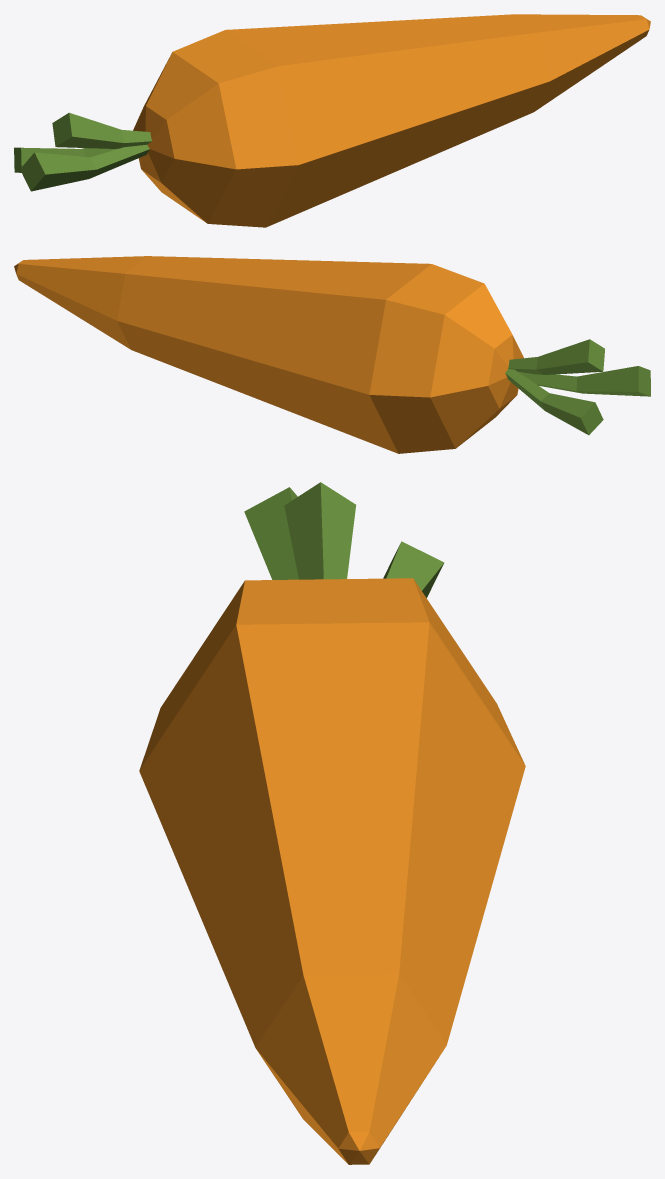
File: Food_carrot.glb
3 renders of one model, top to bottom at view 1: azimuth 30°, elevation 25°; view 2: azimuth 150°, elevation 25°; view 3: azimuth 270°, elevation 25°, orthographic. The views are drawn at different scales.
Parts seen in each view (by area): view 1: Carrot; view 2: Carrot; view 3: Carrot.
Boxes of the visible parts, <box> form: Carrot: <box>14,14,650,227</box>; Carrot: <box>14,256,650,453</box>; Carrot: <box>139,482,525,1164</box>.
Bounding box in the file's own units: 0.3655 × 0.0859 × 0.0995.
Materials: 1 (1 with a texture image).
